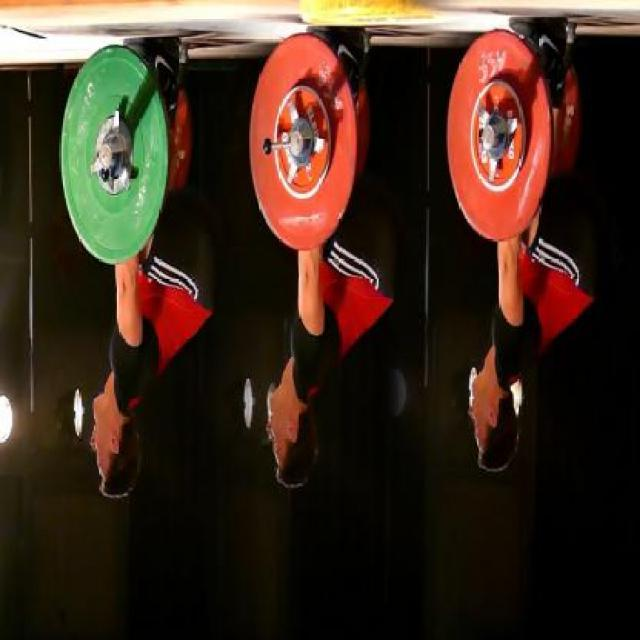Barbell: (478, 120, 497, 157), (98, 136, 114, 172), (287, 124, 302, 161)
